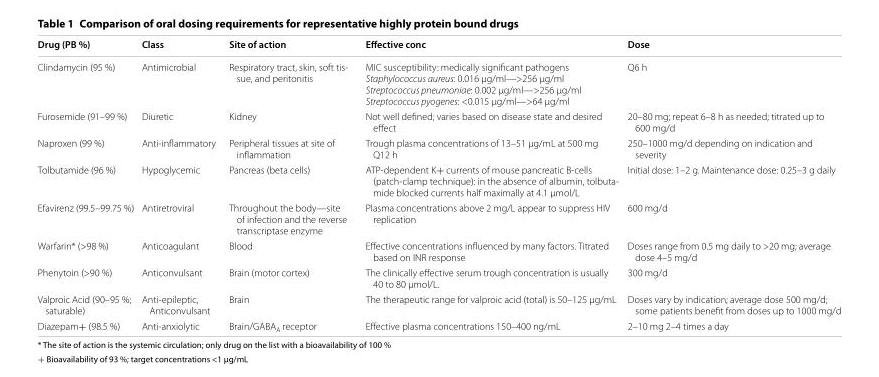table: (37, 37, 841, 338)
table column: (356, 37, 623, 338), (623, 37, 841, 338), (222, 37, 356, 338), (37, 37, 138, 338), (138, 37, 222, 338)
table column header: (37, 37, 841, 55)
table row: (37, 55, 841, 108), (37, 161, 841, 199), (37, 199, 841, 237), (37, 134, 841, 161), (37, 237, 841, 264), (37, 264, 841, 291), (37, 108, 841, 134), (37, 291, 841, 317), (37, 317, 841, 338), (37, 37, 841, 55)
